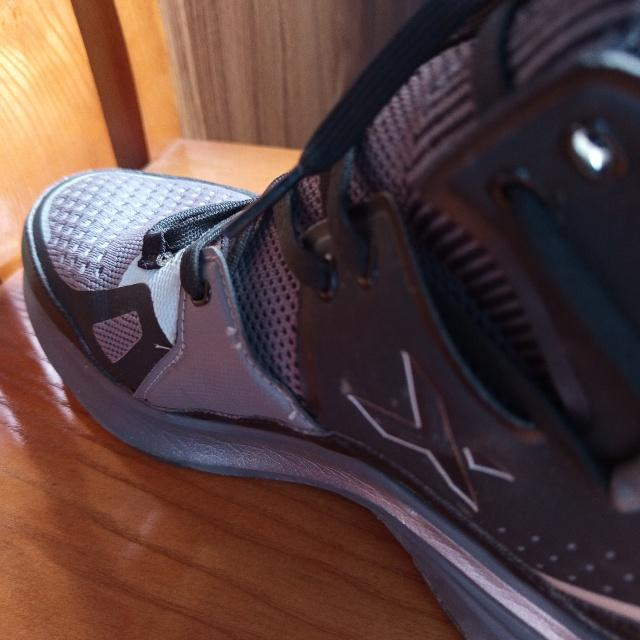broken: (225, 326, 245, 351)
